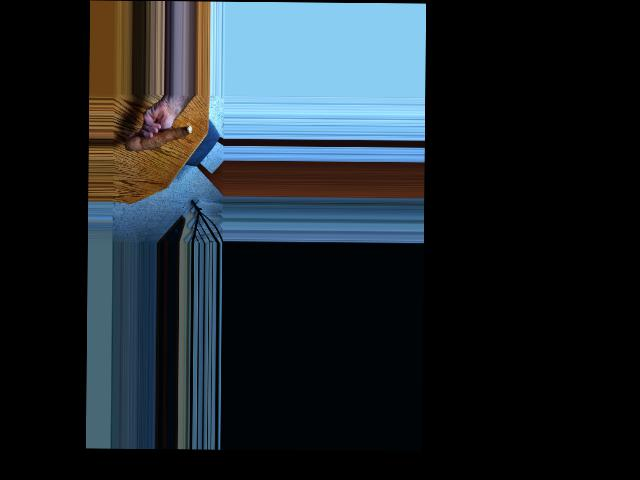sweet_potato: (126, 124, 193, 154)
